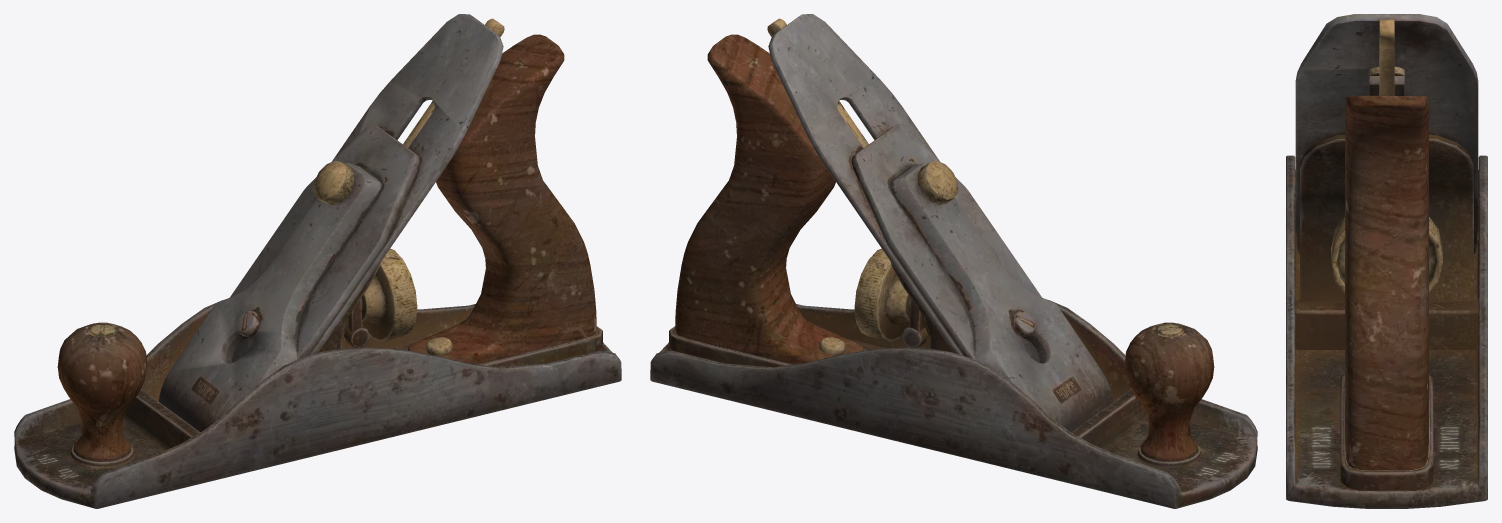
Rendered from hand_plane_no4.glb.
3 renders of one model, left to right at view 1: azimuth 30°, elevation 25°; view 2: azimuth 150°, elevation 25°; view 3: azimuth 270°, elevation 25°, orthographic. The views are drawn at different scales.
Visible parts, largest first — view 1: hand_plane_no4; view 2: hand_plane_no4; view 3: hand_plane_no4.
Boxes of the visible parts, x1=… form: hand_plane_no4: x1=14, y1=14, x2=621, y2=508; hand_plane_no4: x1=650, y1=14, x2=1257, y2=508; hand_plane_no4: x1=1286, y1=14, x2=1487, y2=508.
Size of the model in its own units: 0.3308 by 0.1978 by 0.0843.
Materials: 1 (1 with a texture image).
